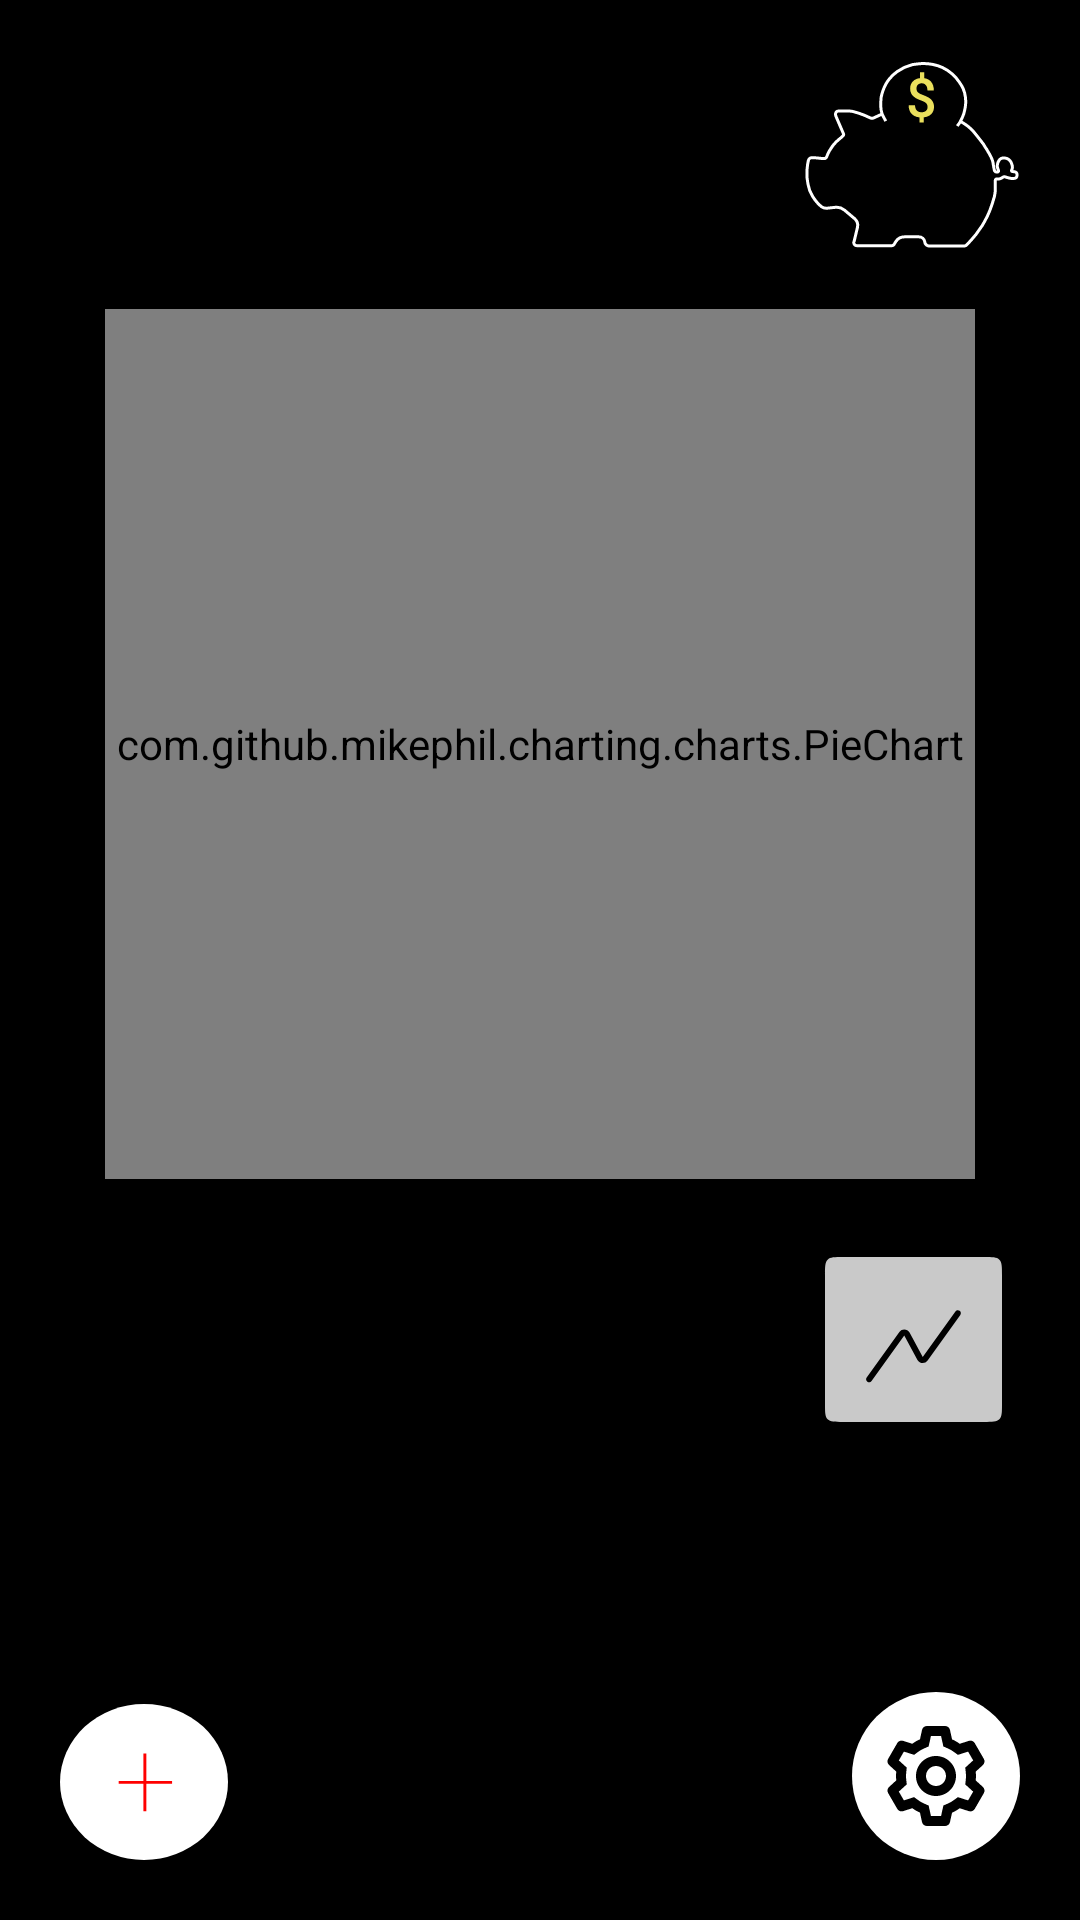

Icon bounding boxes for this 1080×1920 phone screenshot, format [x1=x1, y1=y1, x2=x2, y2=y2]:
add good: [x1=60, y1=1704, x2=228, y2=1860]
buttonmoneypig: [x1=805, y1=62, x2=1019, y2=248]
settings: [x1=852, y1=1692, x2=1020, y2=1860]
